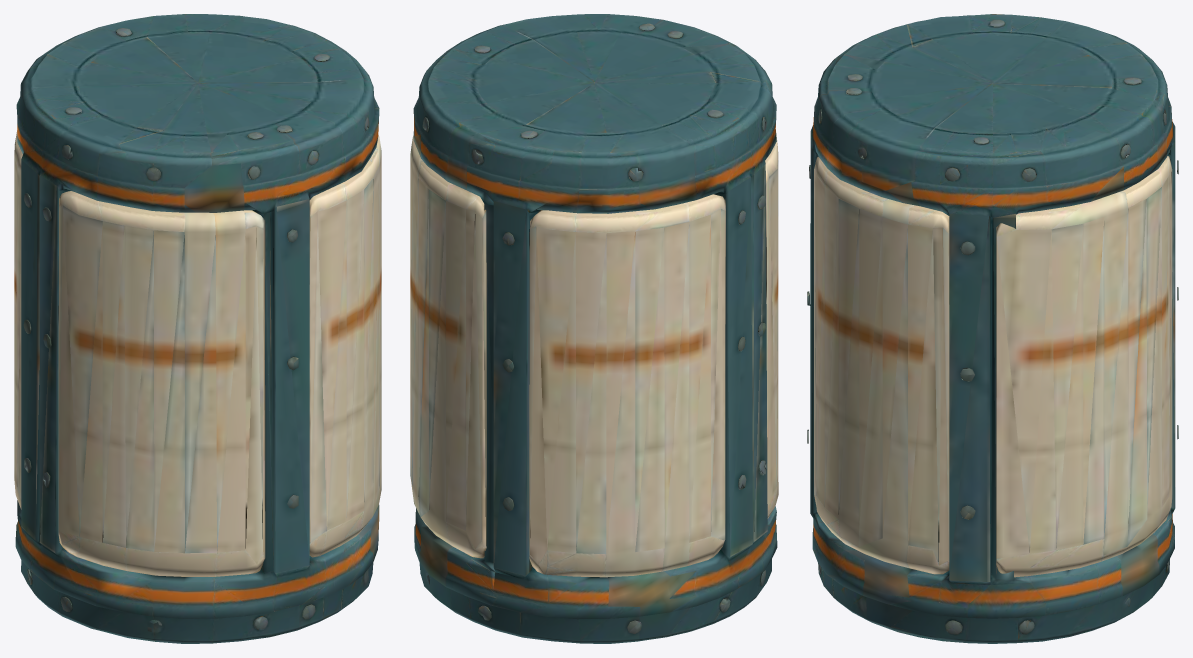
The model's file is rocket_lower_hull-lod0.b09dbb6338b0.glb.
The picture shows the model from 3 angles, left to right: view 1: azimuth 30°, elevation 25°; view 2: azimuth 150°, elevation 25°; view 3: azimuth 270°, elevation 25°; orthographic projection.
Visible parts, largest first — view 1: geometry_0; view 2: geometry_0; view 3: geometry_0.
Part boxes in pixels (box(x1,y1,x2,y2)): geometry_0: box(14, 14, 381, 643); geometry_0: box(410, 14, 778, 643); geometry_0: box(807, 14, 1178, 643).
Bounding box in the file's own units: 0.6484 × 0.9517 × 0.6489.
1 material, 1 textured.
